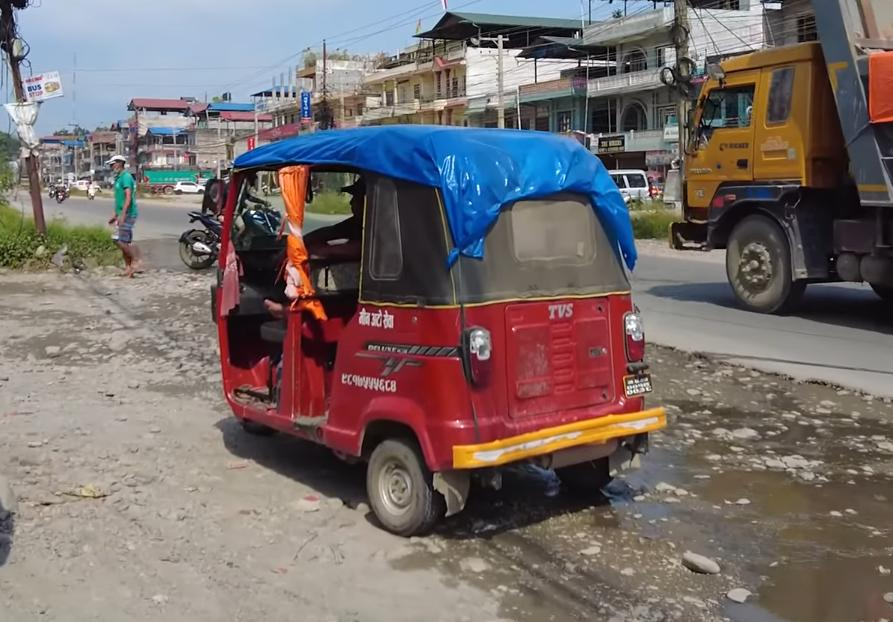SUV: (604, 167, 653, 213)
auto_rickshaw: (198, 115, 668, 553)
truck: (671, 30, 893, 316)
